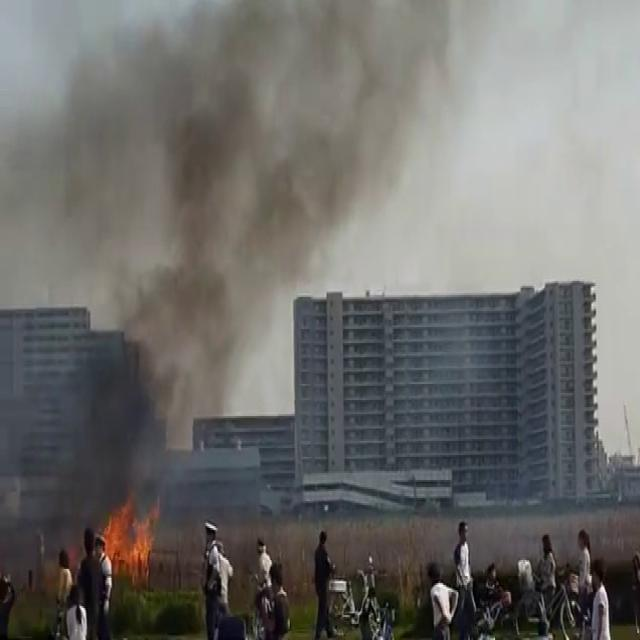Fire: (98, 492, 164, 580)
Smoke: (0, 0, 438, 475)
